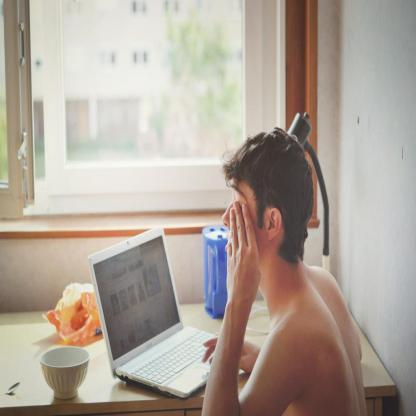board: (90, 233, 222, 407)
